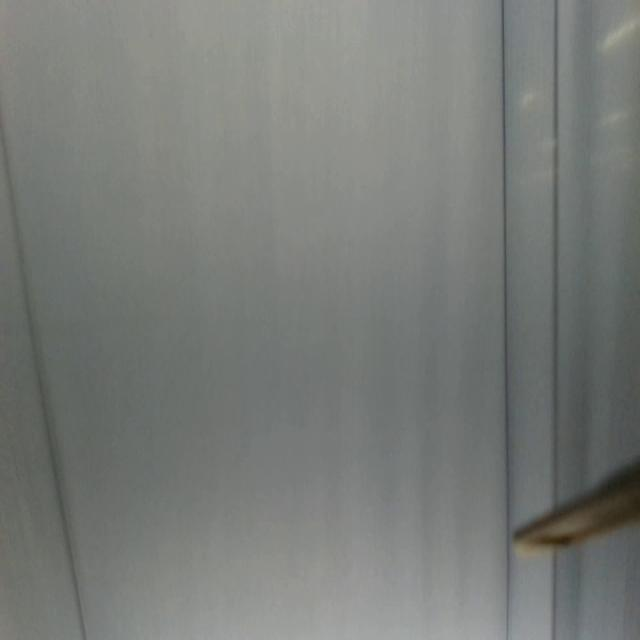crease: (0, 114, 88, 640), (499, 0, 512, 639), (550, 0, 561, 503), (549, 552, 561, 640)
